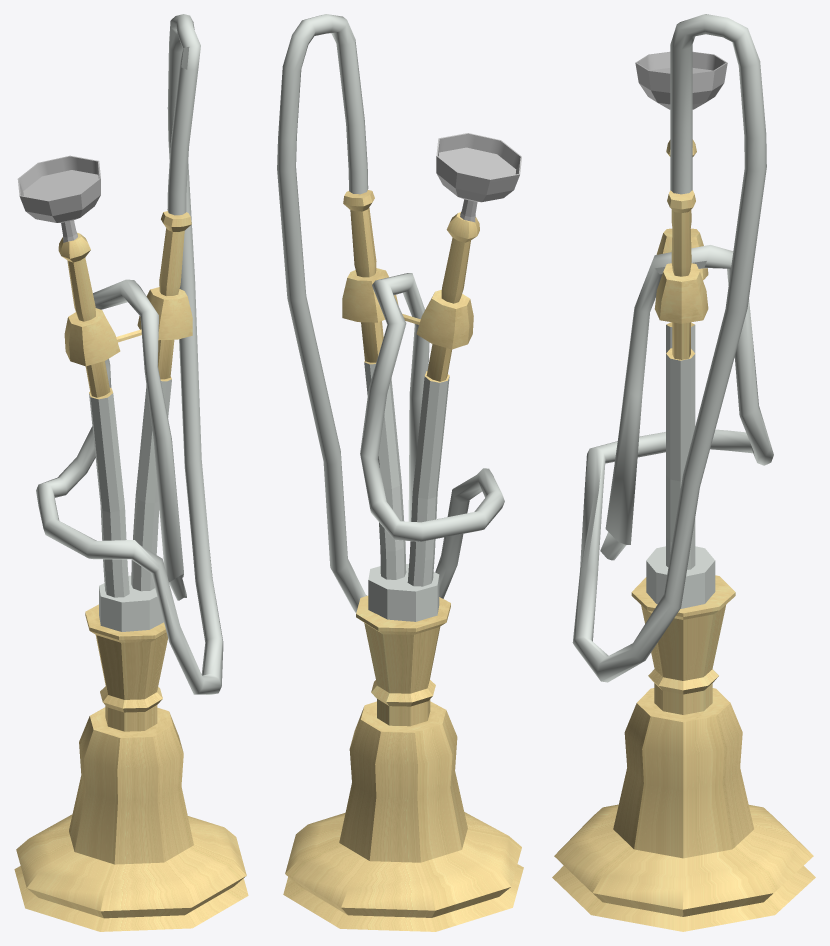
Rendered from hookah 1.fbx.
3 renders of one model, left to right at view 1: azimuth 30°, elevation 25°; view 2: azimuth 150°, elevation 25°; view 3: azimuth 270°, elevation 25°, orthographic. The views are drawn at different scales.
Visible parts, largest first — view 1: Plane.005, Plane.001, Plane.006, Plane.007, Plane.009; view 2: Plane.005, Plane.001, Plane.006, Plane.007, Plane.009; view 3: Plane.005, Plane.001, Plane.006, Plane.007, Plane.009.
Boxes of the visible parts, left/top/right/bottom form: Plane.005: left=14, top=604, right=248, bottom=931; Plane.001: left=36, top=14, right=223, bottom=694; Plane.006: left=89, top=379, right=171, bottom=631; Plane.007: left=58, top=211, right=192, bottom=399; Plane.009: left=17, top=155, right=100, bottom=242; Plane.005: left=283, top=595, right=523, bottom=931; Plane.001: left=277, top=14, right=504, bottom=613; Plane.006: left=364, top=362, right=449, bottom=621; Plane.007: left=342, top=190, right=479, bottom=382; Plane.009: left=436, top=133, right=521, bottom=222; Plane.005: left=552, top=575, right=815, bottom=931; Plane.001: left=572, top=14, right=773, bottom=682; Plane.006: left=646, top=325, right=715, bottom=608; Plane.007: left=654, top=139, right=708, bottom=360; Plane.009: left=635, top=51, right=727, bottom=109.
Bounding box in the file's own units: 89.98 × 328 × 87.43.
